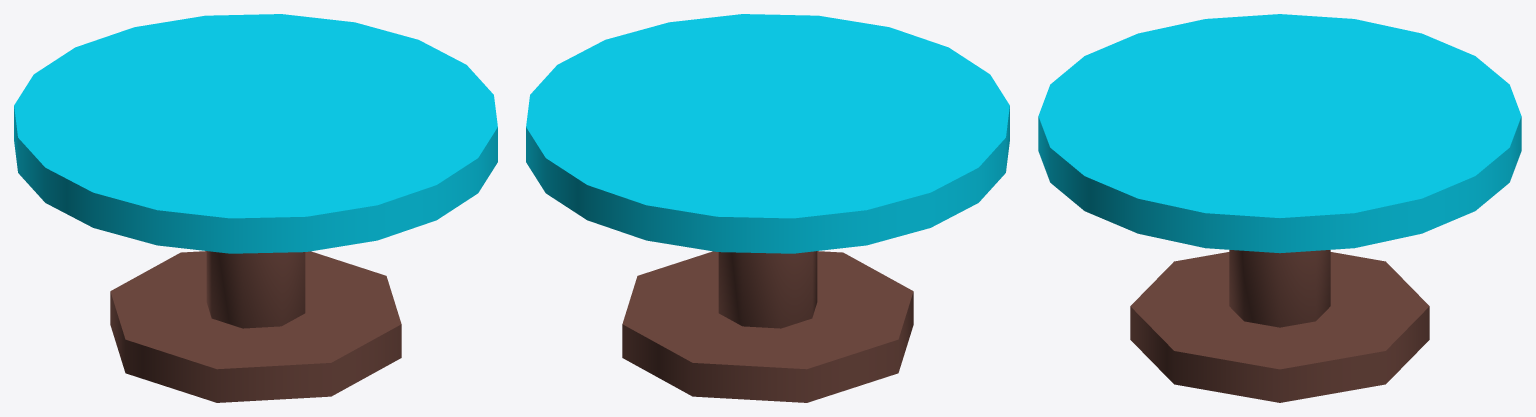
Rendered from TableA1_geo.fbx.
The picture shows the model from 3 angles, left to right: view 1: azimuth 30°, elevation 25°; view 2: azimuth 150°, elevation 25°; view 3: azimuth 270°, elevation 25°; orthographic projection.
Parts seen in each view (by area): view 1: TableA1_geo; view 2: TableA1_geo; view 3: TableA1_geo.
Part boxes in pixels (x1=…): TableA1_geo: x1=14, y1=14, x2=497, y2=402; TableA1_geo: x1=526, y1=14, x2=1009, y2=402; TableA1_geo: x1=1038, y1=14, x2=1521, y2=402.
Size of the model in its own units: 1.33 by 1.33 by 0.681.
